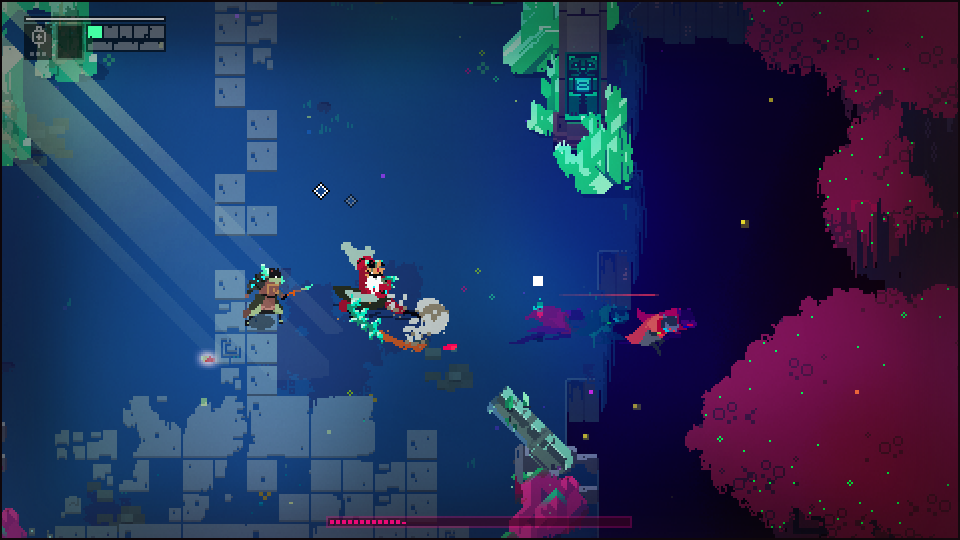hanged_man: (335, 238, 432, 356)
player: (624, 318, 673, 350)
